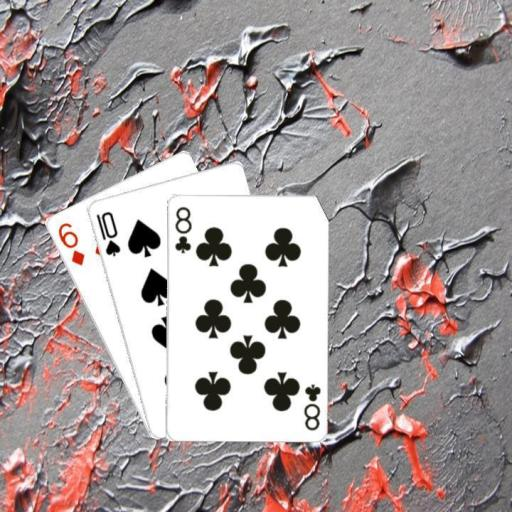card-corner: (54, 219, 86, 267), (92, 208, 122, 258), (300, 380, 322, 432), (170, 204, 192, 254)
